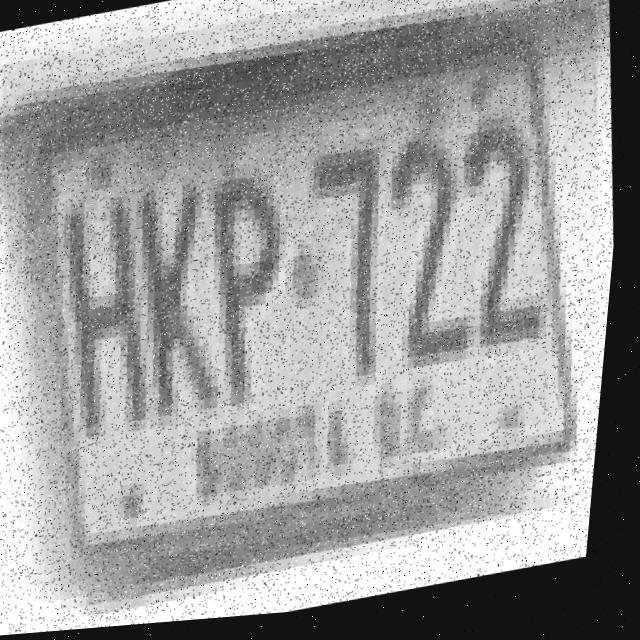LicensePlate: (0, 0, 640, 613)
